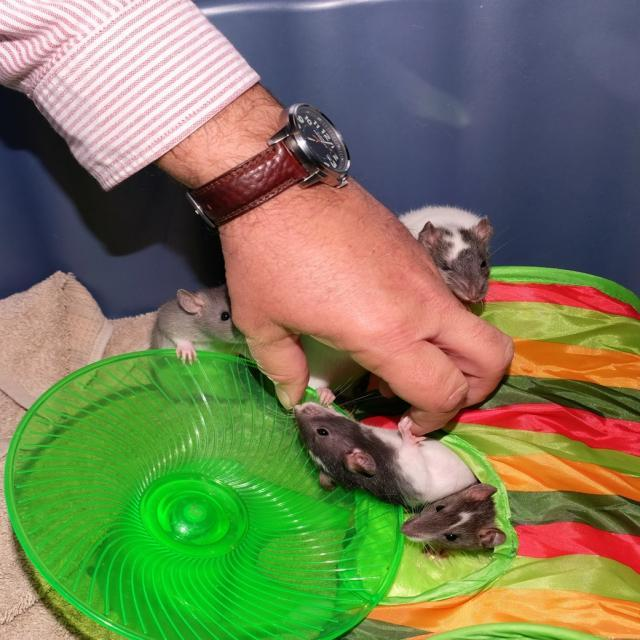rat: (291, 397, 480, 509), (398, 204, 497, 308), (396, 482, 509, 559), (148, 286, 240, 365)
